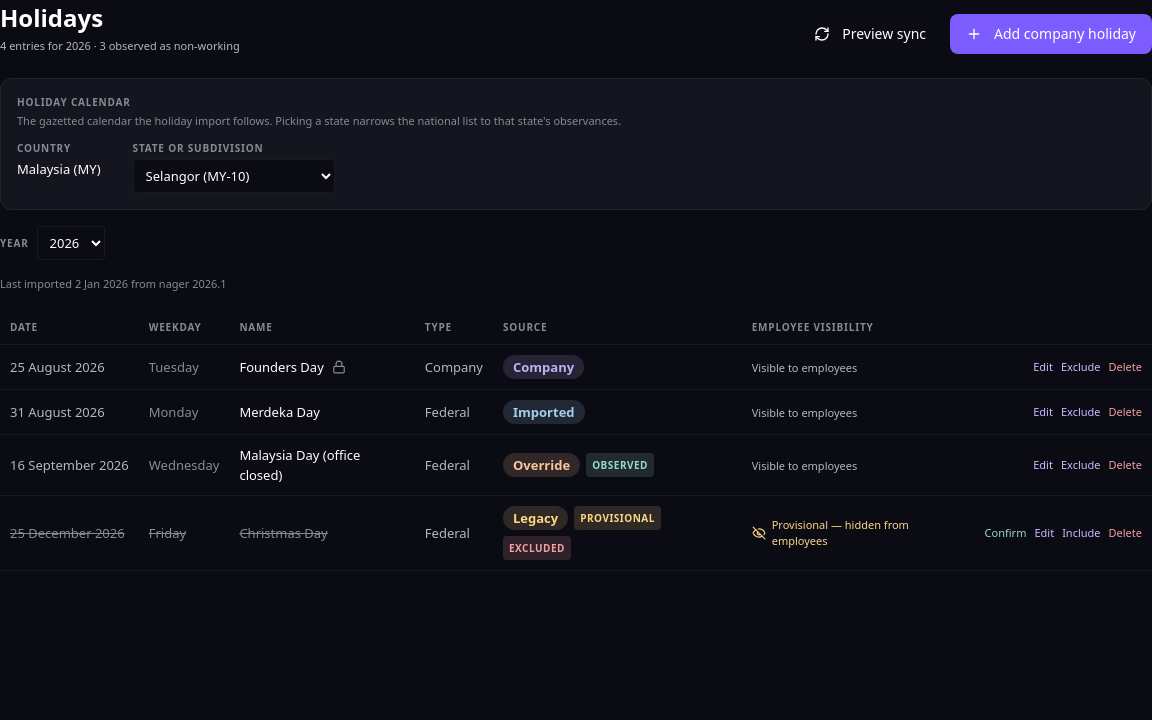
Test: AdminHolidaysPage › shows the sync preview counts and states that it is read-only
Click the button "Preview sync" at x=870, y=34, box [798,14,942,54]
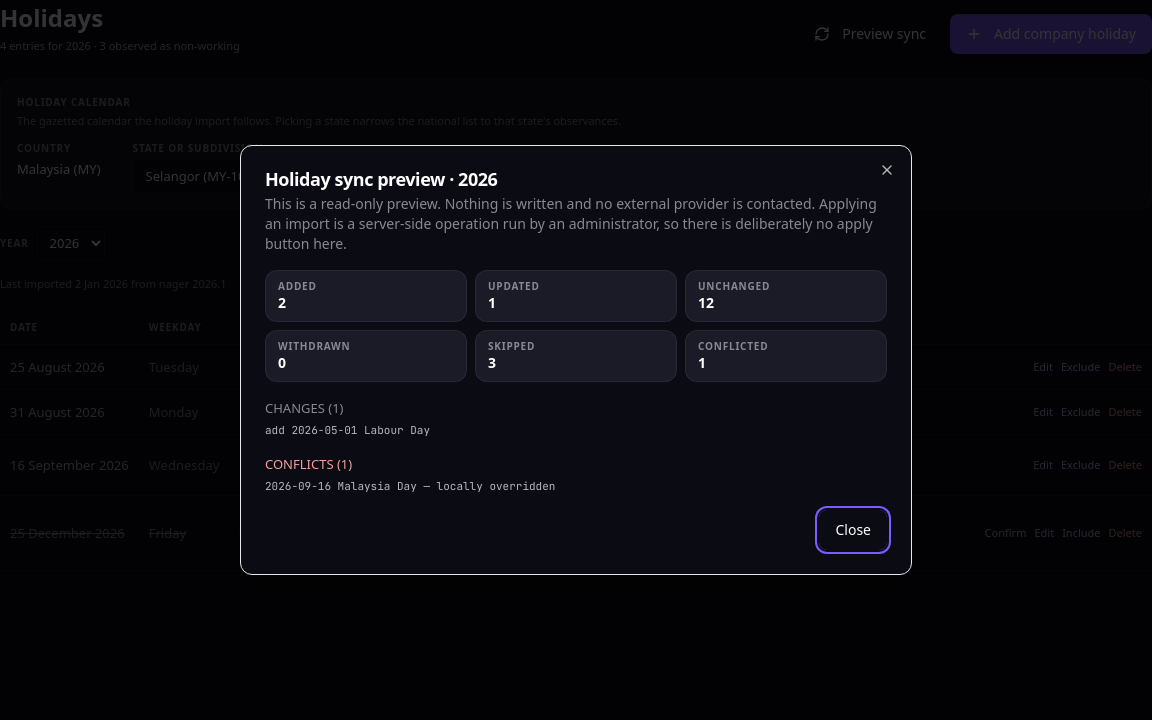
Result: the list item "add 2026-05-01 Labour Day" is shown at [265,423,430,437]
Result: the list item "2026-09-16 Malaysia Day — locally overridden" is shown at [265,479,555,493]
Result: the text "read-only preview" is shown at [265,194,877,253]
